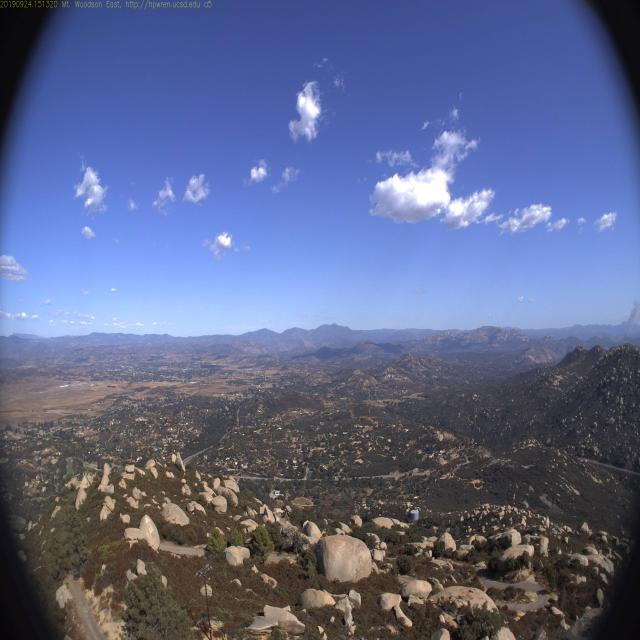smoke: (621, 293, 640, 338)
